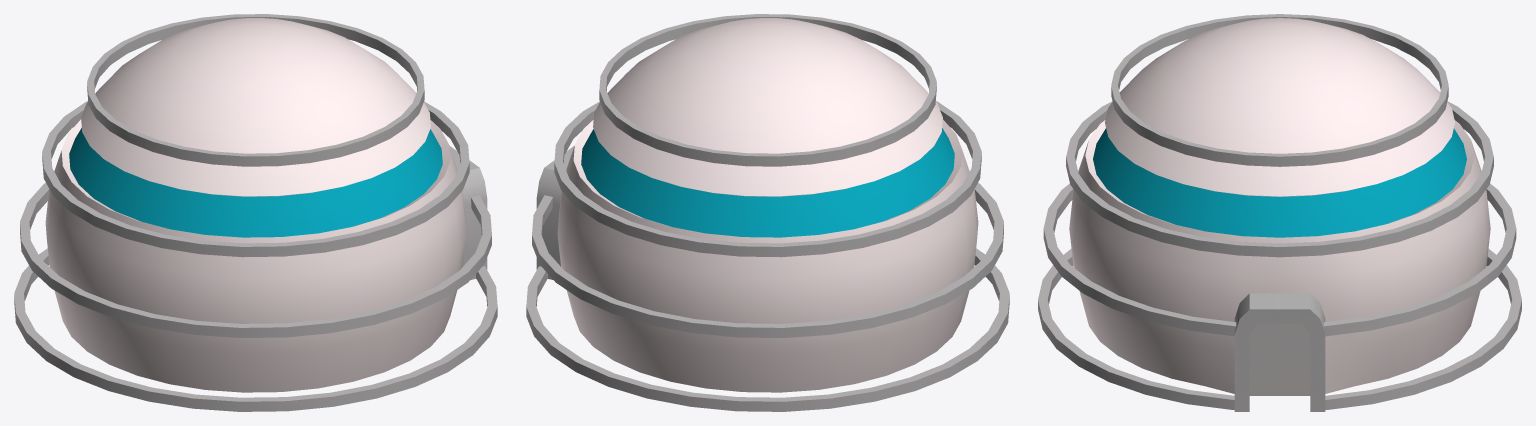
The model's file is casa 6.fbx.
3 views of the same model, side by side, from view 1: azimuth 30°, elevation 25°; view 2: azimuth 150°, elevation 25°; view 3: azimuth 270°, elevation 25° (orthographic).
Visible parts, largest first — view 1: Icosphere.004; view 2: Icosphere.004; view 3: Icosphere.004, Icosphere.006.
Part boxes in pixels (x1,y1,x2,y2): Icosphere.004: (14, 14, 497, 411); Icosphere.004: (526, 14, 1009, 411); Icosphere.004: (1038, 14, 1521, 411); Icosphere.006: (1249, 323, 1310, 395).
Size of the model in its own units: 1410 by 879 by 1414.
Materials: 1 (1 with a texture image).
